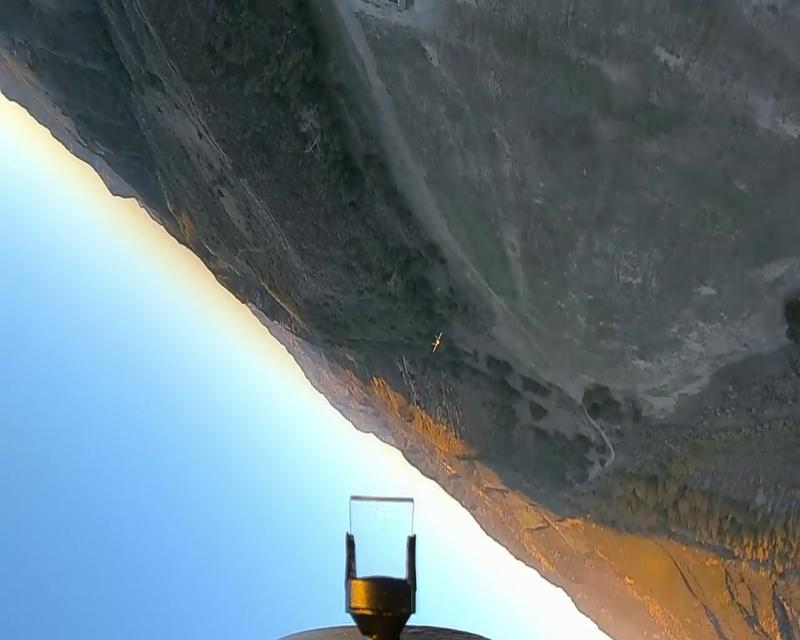UAV: (430, 331, 443, 353)
